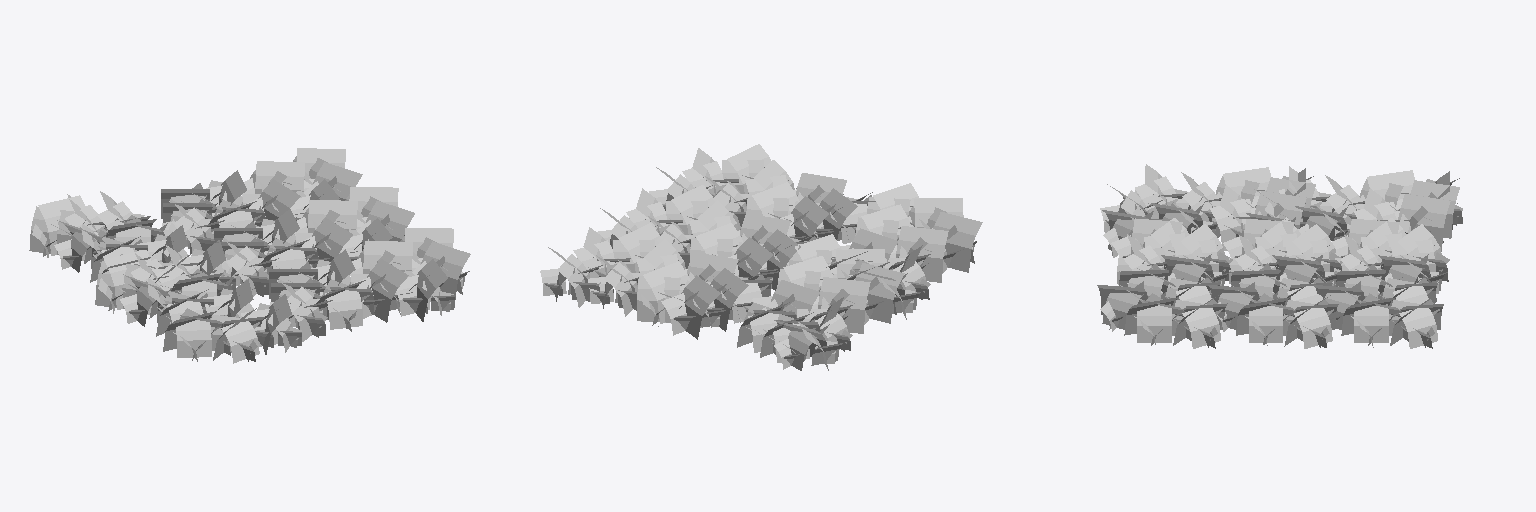
The model's file is gras.obj.
3 renders of one model, left to right at view 1: azimuth 30°, elevation 25°; view 2: azimuth 150°, elevation 25°; view 3: azimuth 270°, elevation 25°, orthographic.
Parts seen in each view (by area): view 1: Plane.004_Plane.019; view 2: Plane.004_Plane.019; view 3: Plane.004_Plane.019.
Boxes of the visible parts, <box> form: Plane.004_Plane.019: <box>29,148,470,363</box>; Plane.004_Plane.019: <box>540,144,982,370</box>; Plane.004_Plane.019: <box>1097,164,1462,348</box>.
Bounding box in the file's own units: 21.41 × 2.69 × 21.81.